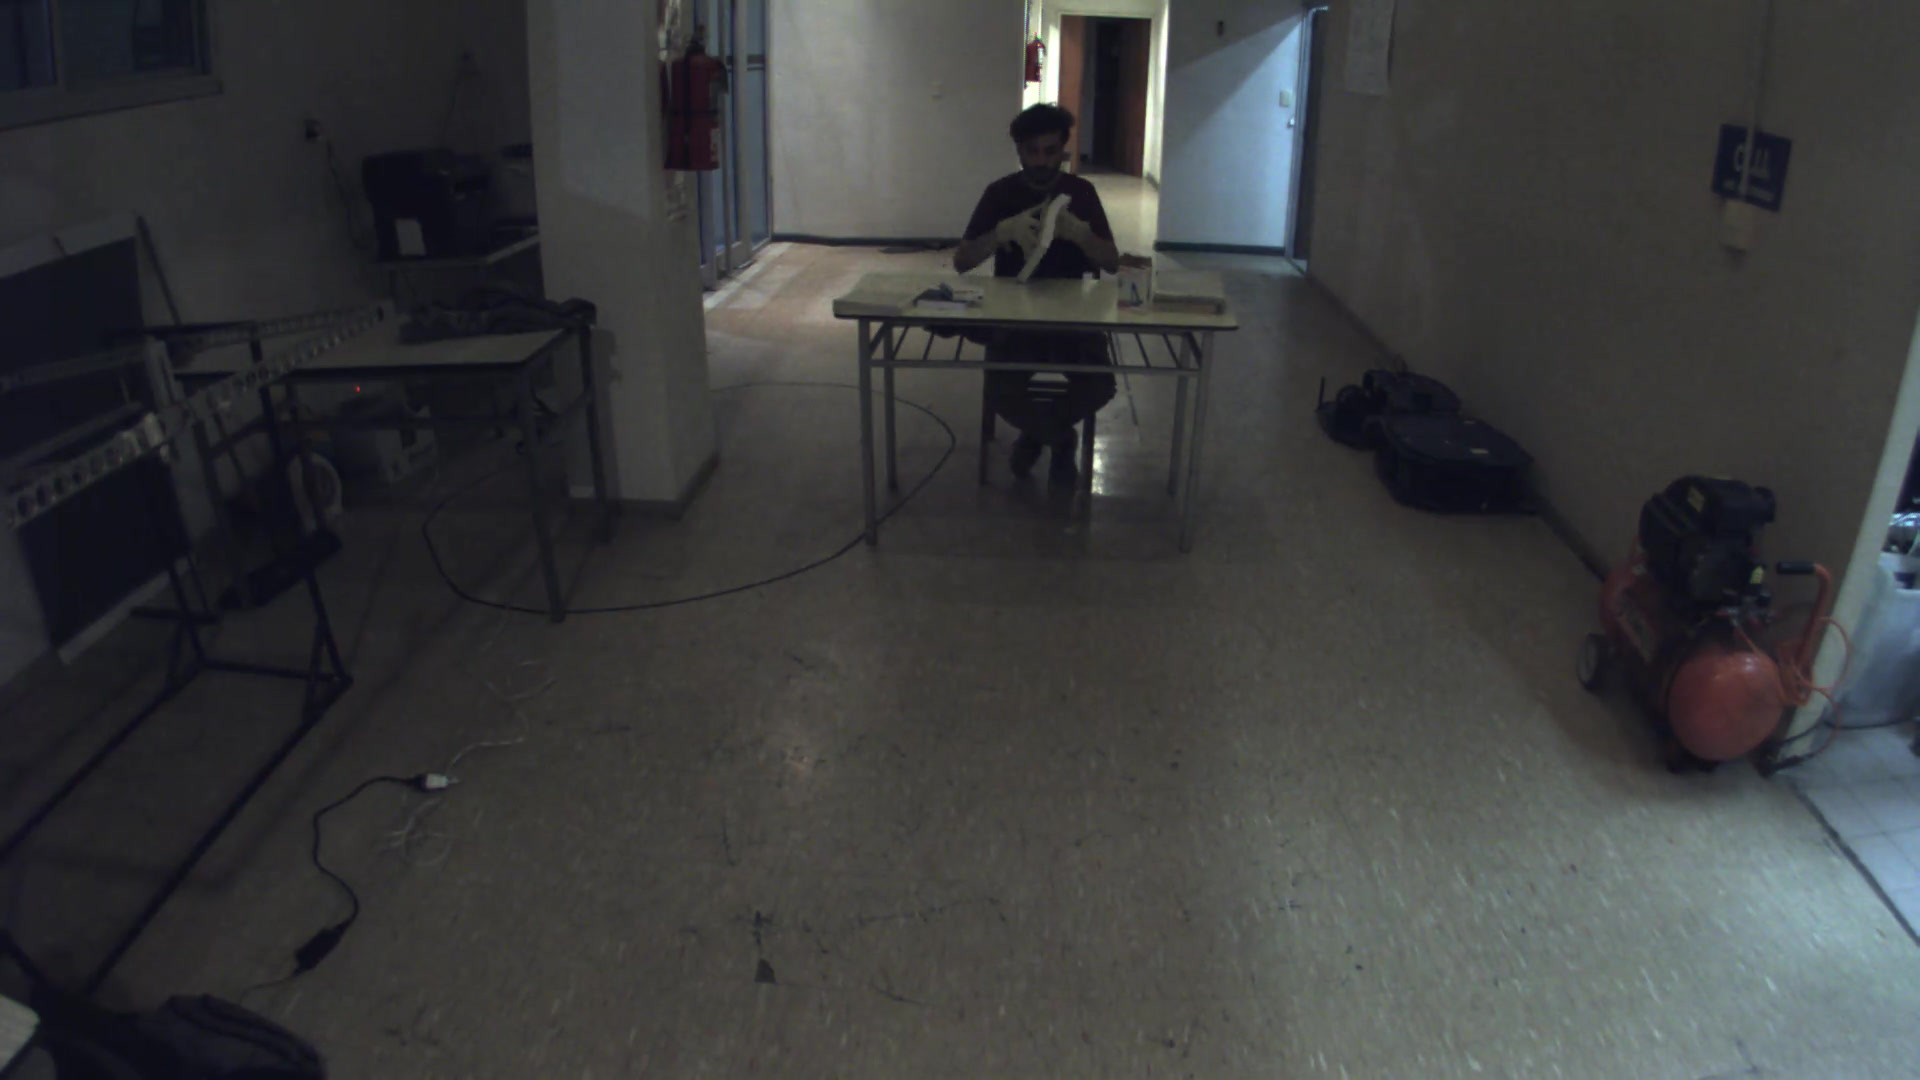hand: (992, 200, 1046, 255), (1048, 202, 1096, 247)
